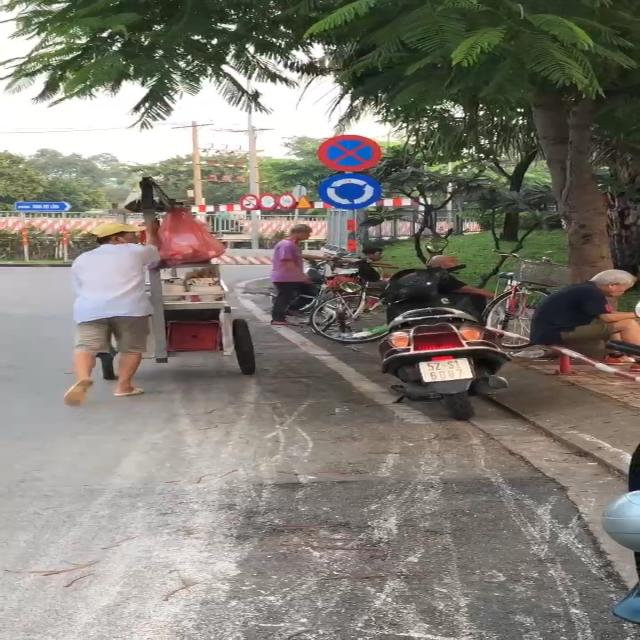Bien bao cam dung xe va do xe: (314, 133, 387, 172)
Bien bao noi giao nhau chay theo vong xuyen: (317, 173, 388, 211)
